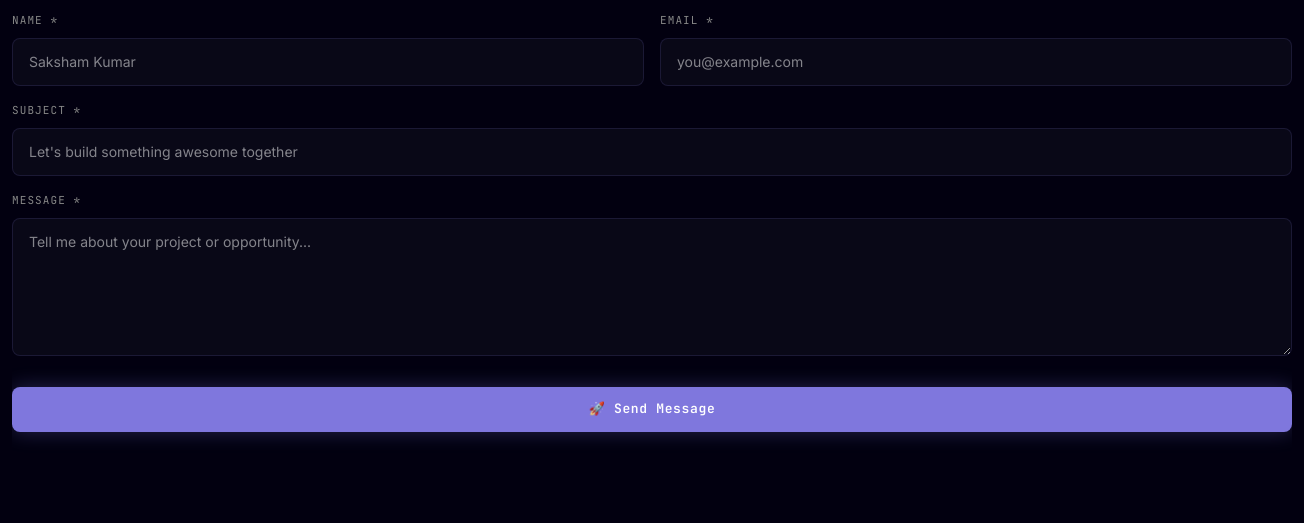
Test case: ContactForm › should clear individual field errors when user types
The width and height of the screenshot is (1304, 523).
Note: Trigger validation errors
Click the button "🚀 Send Message" at coordinates (652, 410), box x1=12 y1=387 x2=1292 y2=432
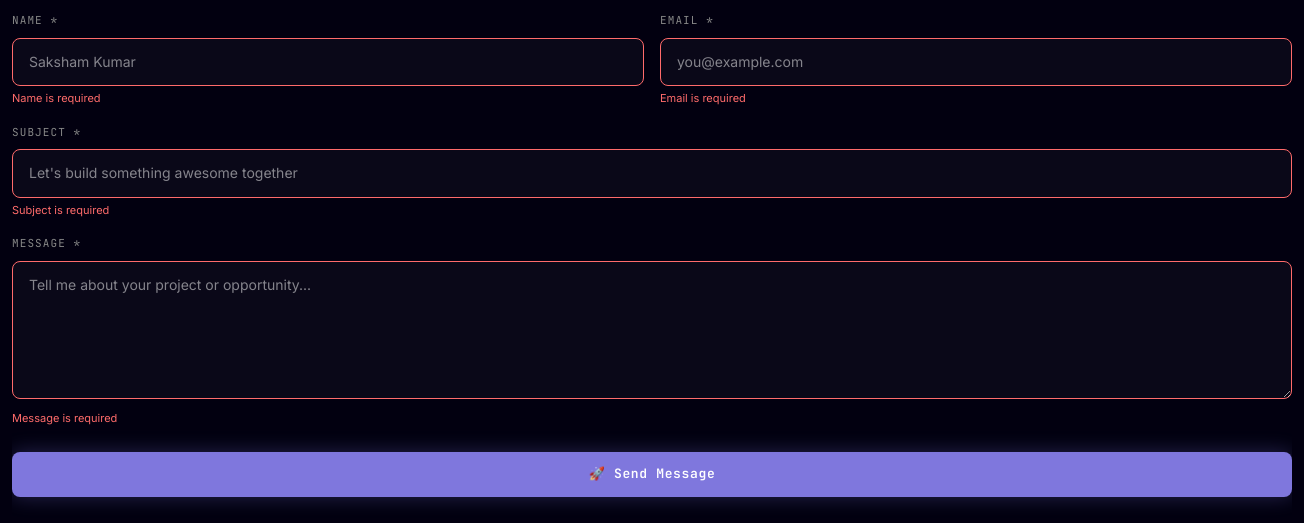
Now the text "Name is required" is shown, box x1=12 y1=91 x2=101 y2=105
Note: Type in the name field
Type "John" into the field with placeholder "Saksham Kumar" at coordinates (328, 62), box x1=12 y1=38 x2=644 y2=86
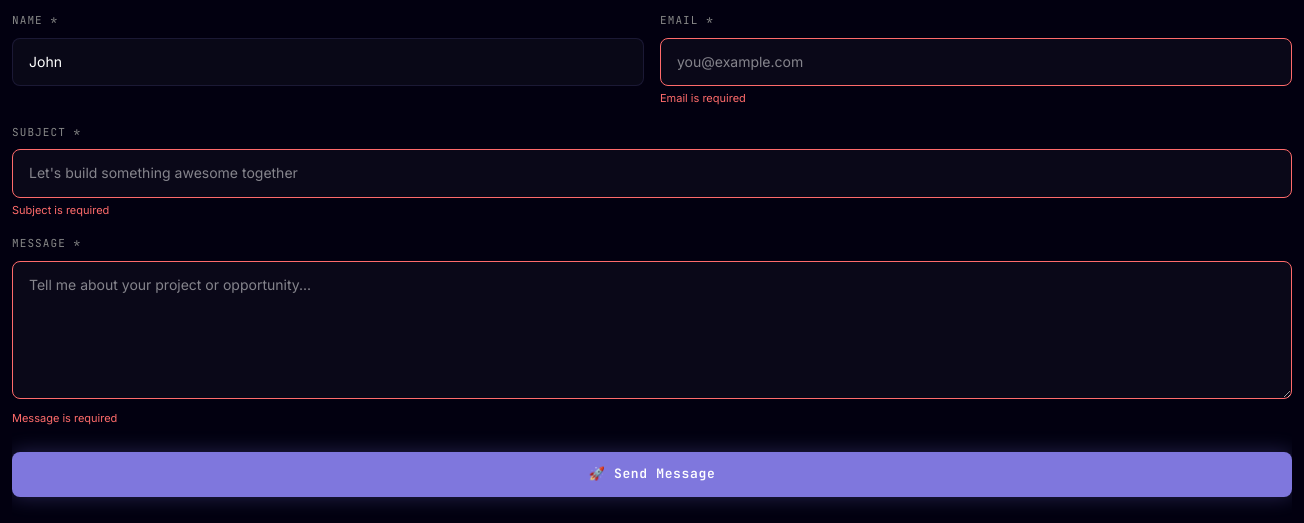
Now the text "Name is required" is gone
